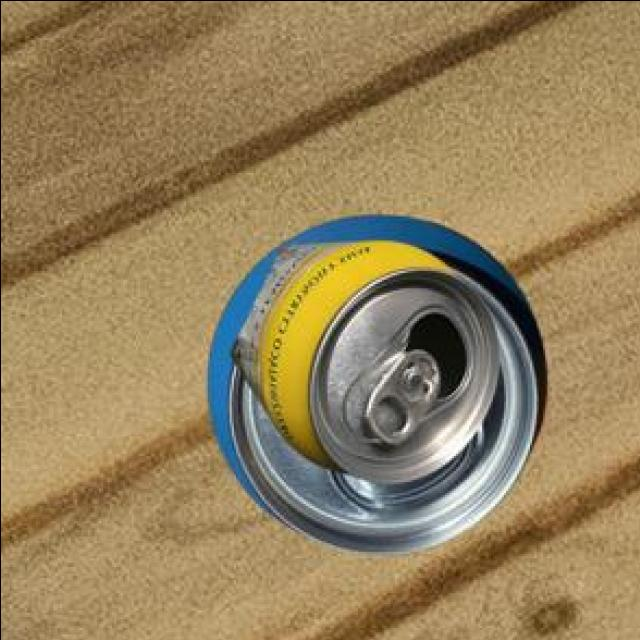logam: (204, 219, 543, 556), (225, 243, 495, 487)
